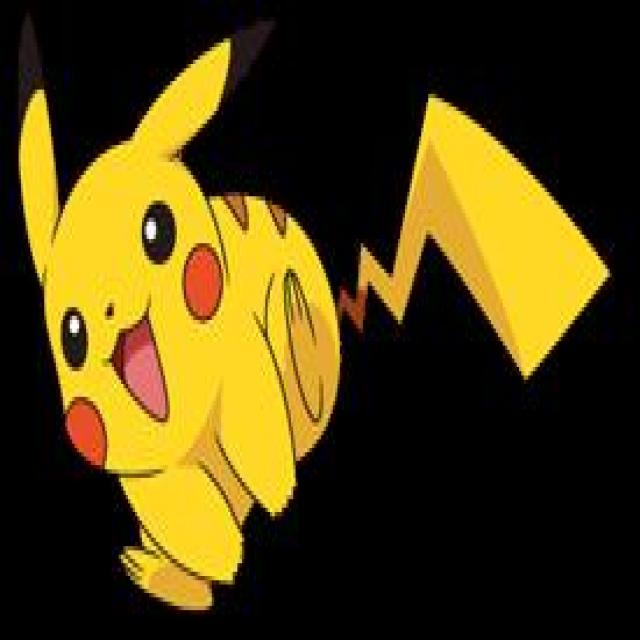pikachu: (17, 35, 614, 614)
